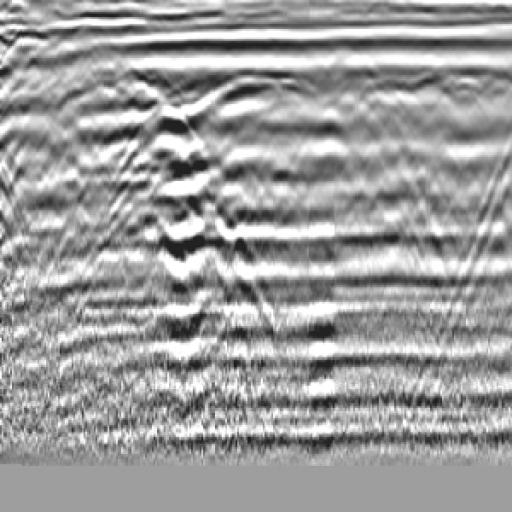metalic: (289, 47, 435, 266), (176, 56, 351, 168)
non-metallic: (74, 60, 268, 325)
